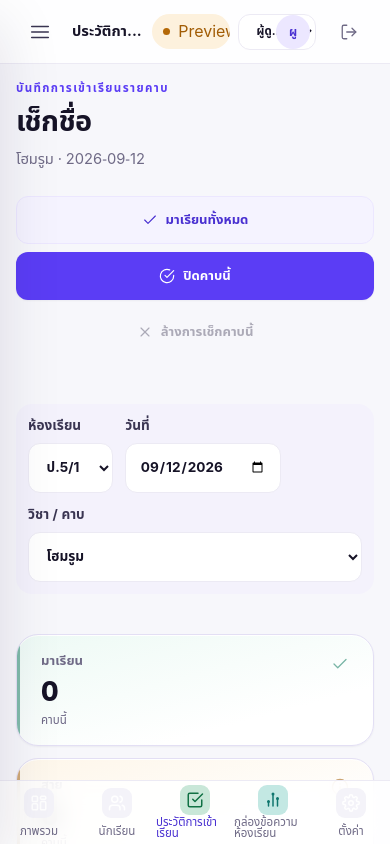
Test: the confirmation a screen raises › is announced politely and can be dismissed by hand
Expected: the heading "เช็กชื่อ" is shown, x1=16 y1=100 x2=92 y2=144
Click the button "มาเรียนทั้งหมด": click(195, 220) x1=16 y1=196 x2=374 y2=244
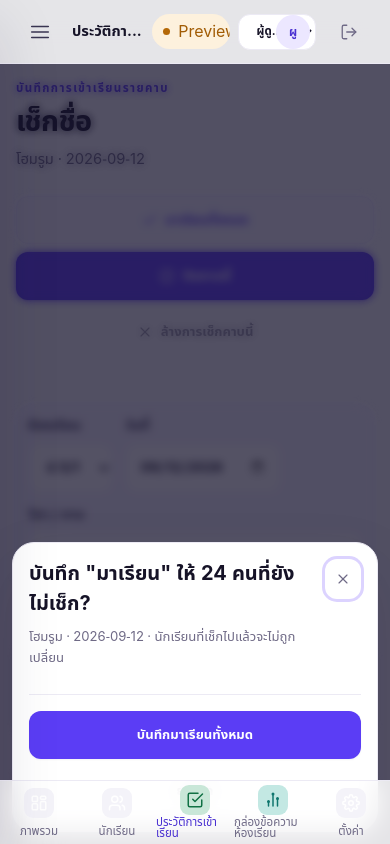
Click the button "บันทึกมาเรียนทั้งหมด": click(195, 735) x1=29 y1=711 x2=361 y2=759
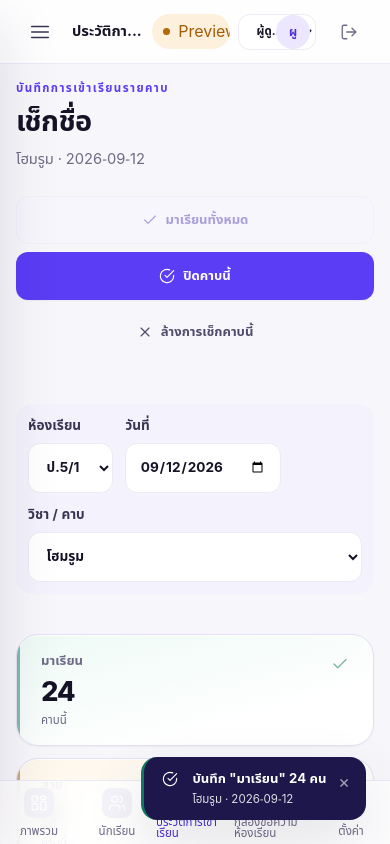
Now the message "บันทึก \"มาเรียน\" 24 คน โฮมรูม · 2026-09-12 ×" is shown, box x1=141 y1=757 x2=366 y2=820
Click the button named "ปิด": click(344, 782) x1=338 y1=769 x2=350 y2=796
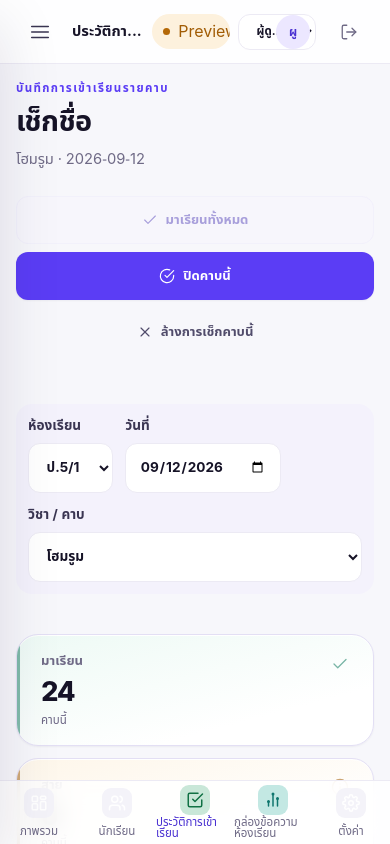
Now no messages with class "ui-toast" are shown
